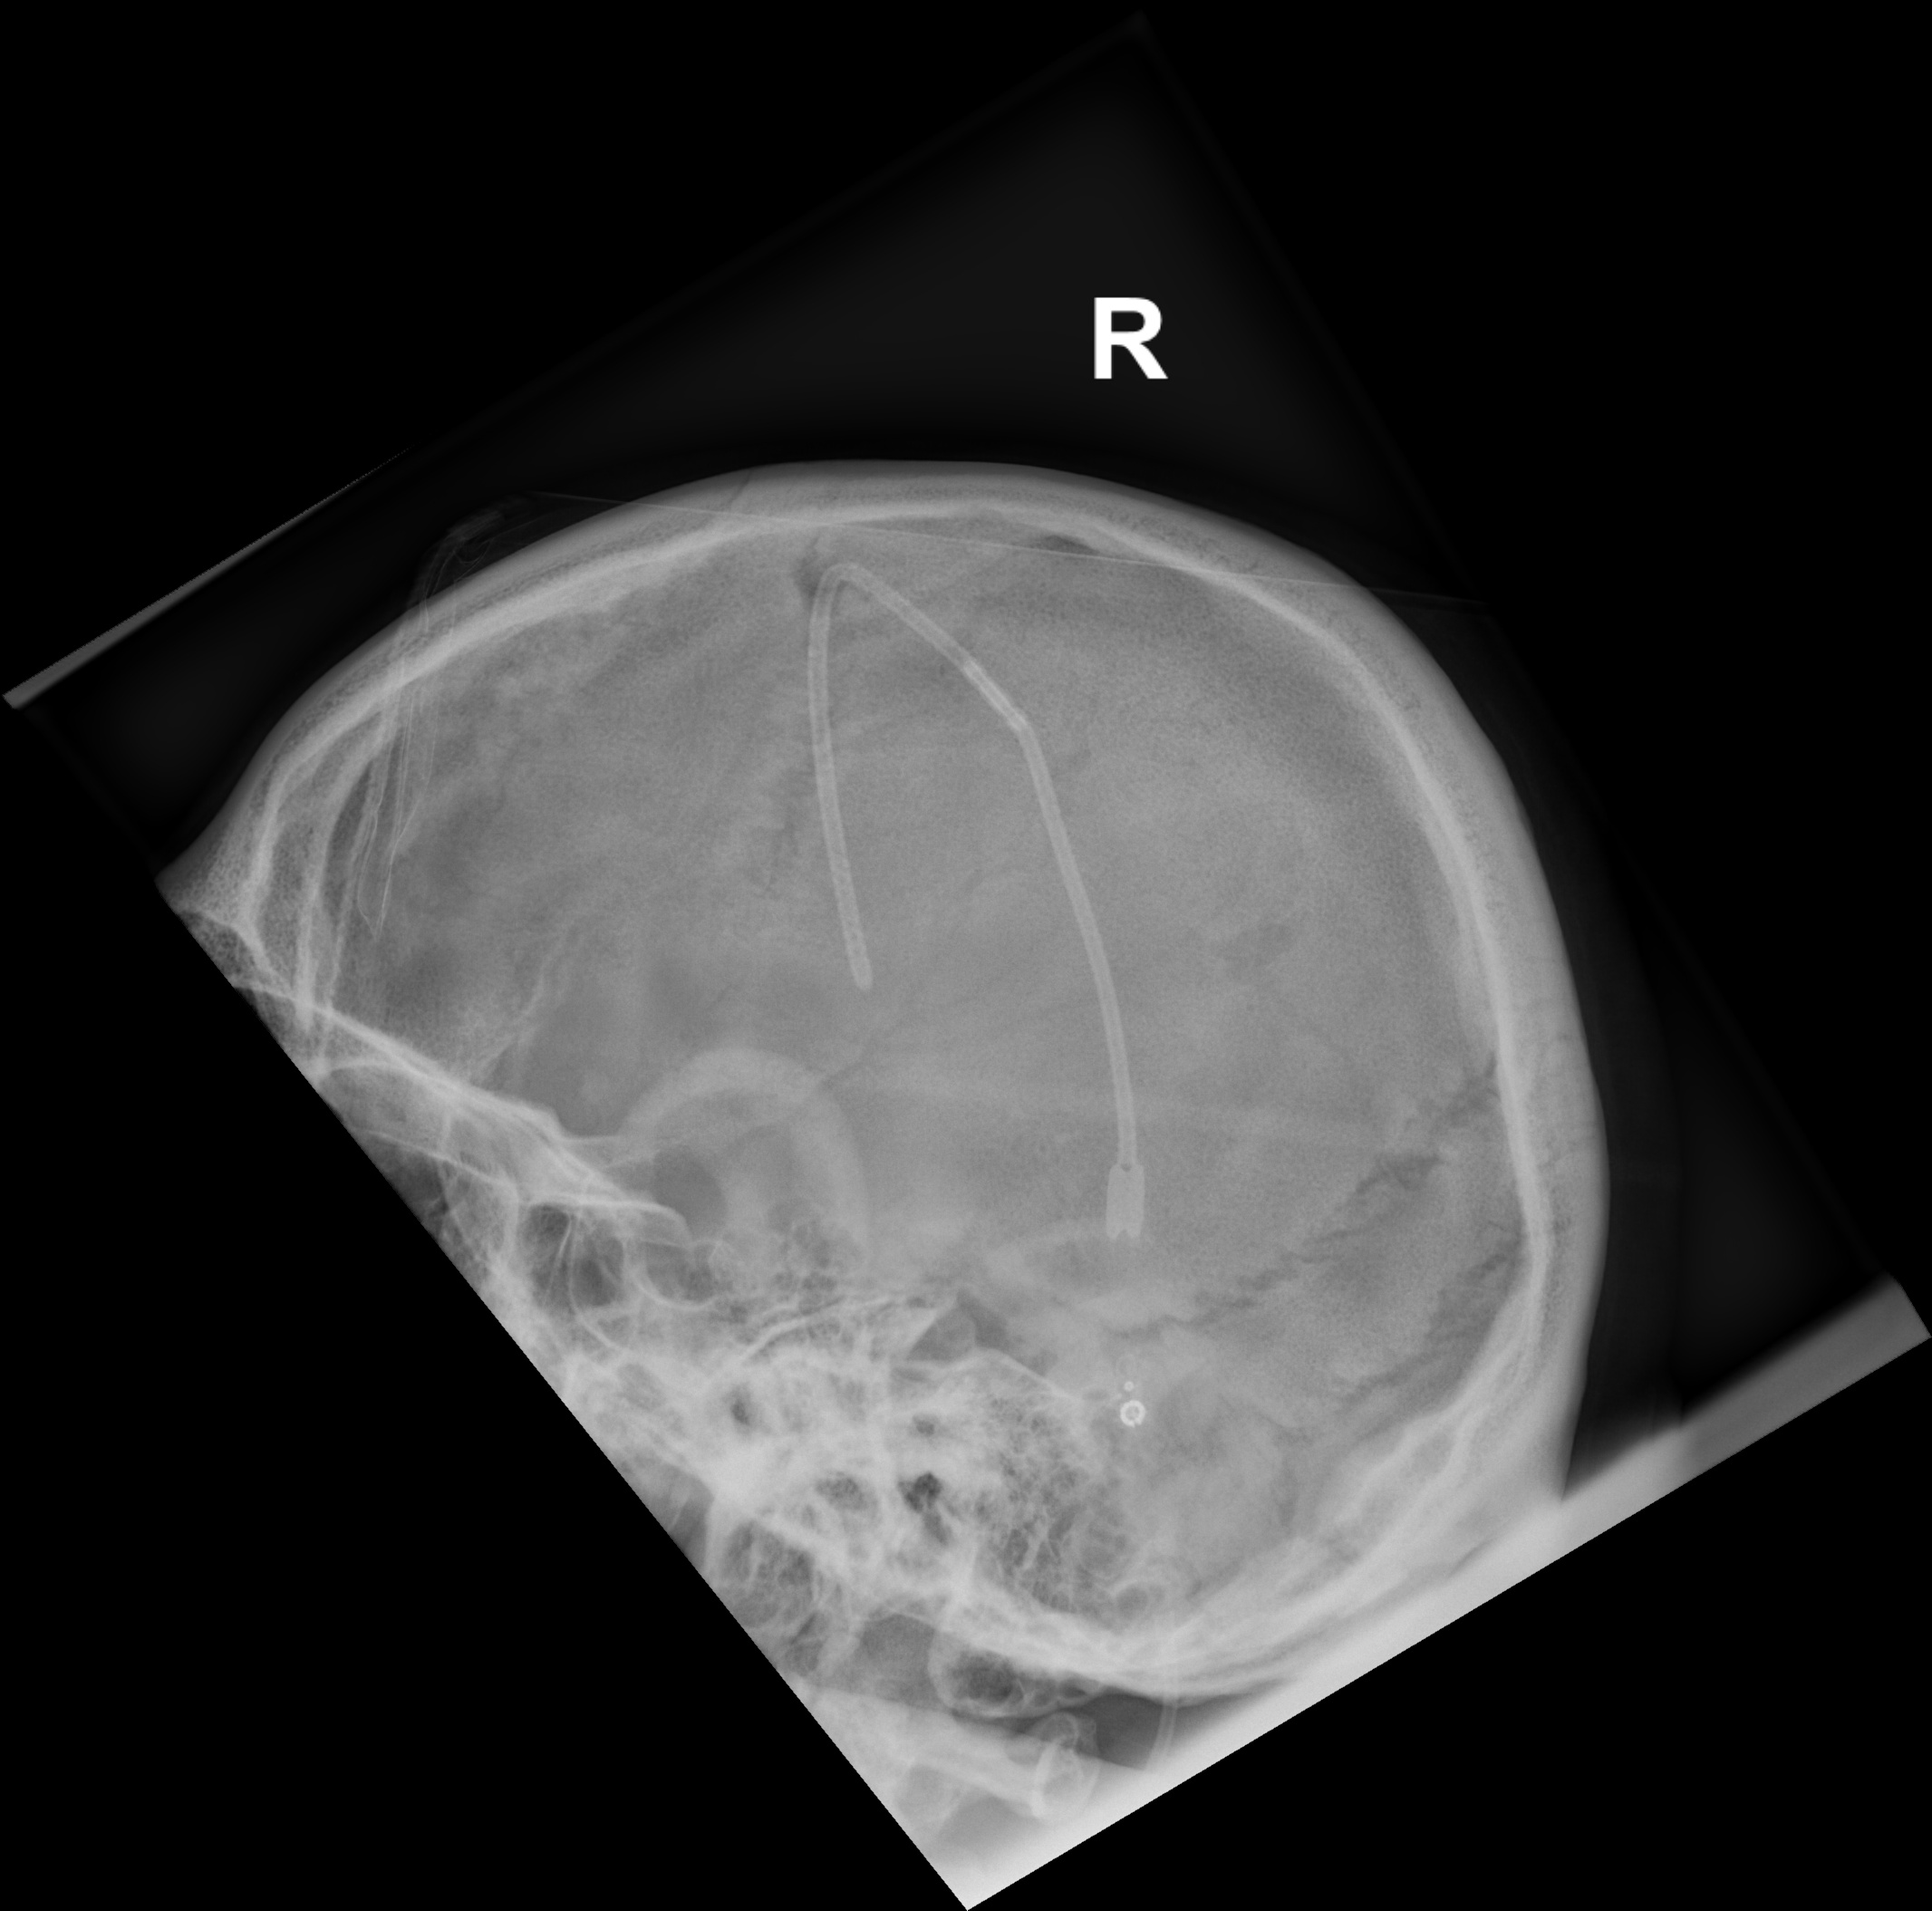Codman Hakim: (1108, 1370, 1160, 1454)
